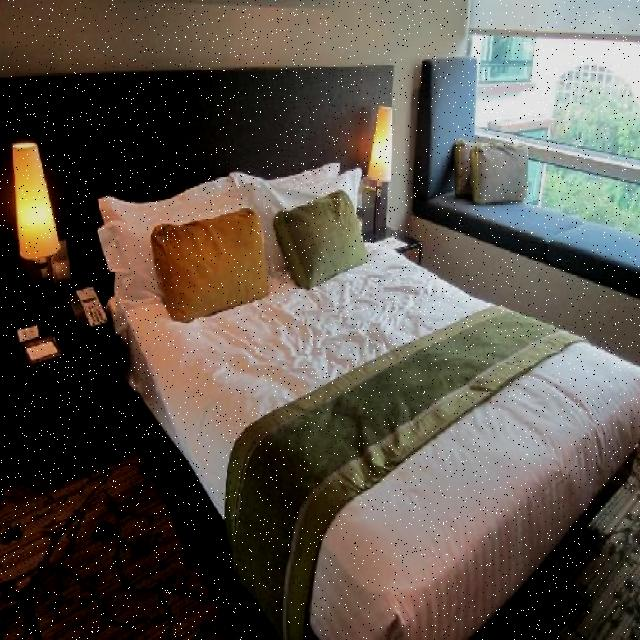bed: (82, 159, 632, 616)
